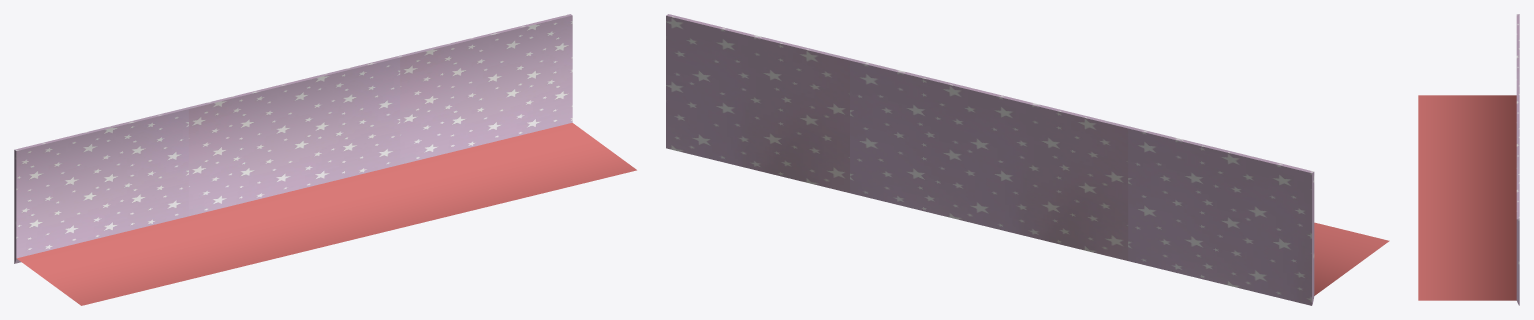
Rendered from Kids room 1.fbx.
3 views of the same model, side by side, from view 1: azimuth 30°, elevation 25°; view 2: azimuth 150°, elevation 25°; view 3: azimuth 270°, elevation 25° (orthographic). The views are drawn at different scales.
Visible parts, largest first — view 1: Plane.002; view 2: Plane.002; view 3: Plane.002.
Part boxes in pixels (box(x1,y1,x2,y2)): Plane.002: box(14, 14, 636, 305); Plane.002: box(666, 14, 1389, 305); Plane.002: box(1418, 14, 1519, 305).
Bounding box in the file's own units: 725 × 682 × 3473.
Materials: 2 (1 with a texture image).
